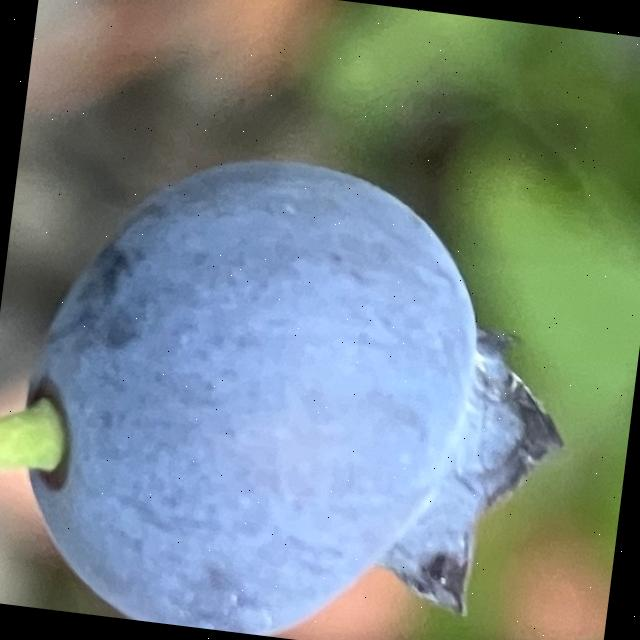Blueberries: (0, 124, 598, 640)
